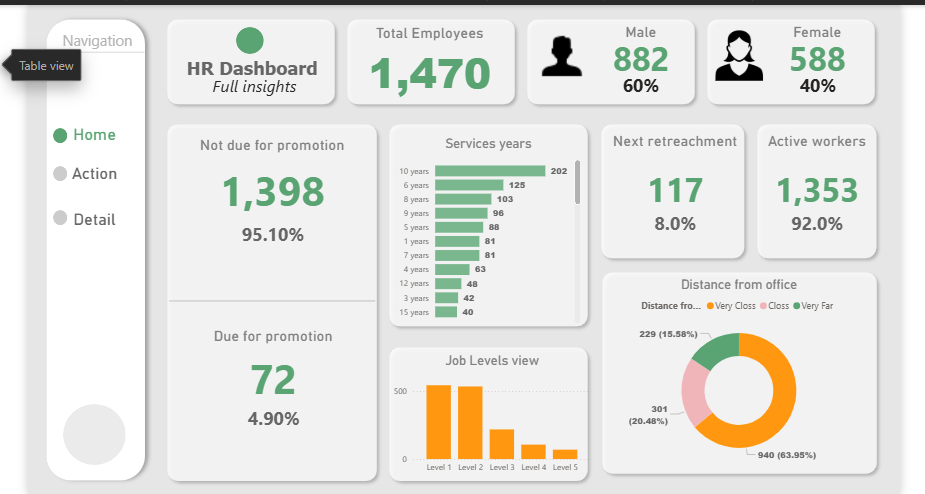

This screenshot's page, from the dashboard's own definition file:
{"tool":"powerbi","page":{"name":"Home","canvas":[1280,720],"ordinal":0},"visuals":[{"type":"shape","box":[16.5,9.6,166.5,699.2],"z":0},{"type":"shape","box":[195.4,12.4,264.3,143.1],"z":1000},{"type":"shape","box":[459.7,12.4,264.3,143.1],"z":2000},{"type":"shape","box":[724,12.4,264.3,143.1],"z":3000},{"type":"shape","box":[988.2,12.4,264.3,143.1],"z":4000},{"type":"shape","box":[195.4,166.5,326.2,542.3],"z":5000},{"type":"shape","box":[521.6,166.2,309.7,315.2],"z":6000},{"type":"shape","box":[521.6,494.1,309.7,214.7],"z":7000},{"type":"shape","box":[834.8,384.2,421.6,314.1],"z":8000},{"type":"shape","box":[833.6,166.7,228.3,215],"z":9000},{"type":"shape","box":[1063.1,166.7,193.3,215],"z":10000},{"type":"textbox","box":[209.7,71.2,238.7,51.4],"z":11000},{"type":"textbox","box":[36.9,33,130.5,51.4],"z":12000},{"type":"textbox","box":[209.7,97.6,251.9,55.4],"z":13000},{"type":"shape","box":[305.9,33,40.9,39.6],"z":14000},{"type":"card","title":"Total Employees","fields":{"Values":["All Measures.Total Emp"]},"box":[468,27.5,246.4,112.9],"z":15000},{"type":"card","title":"Male","fields":{"Values":["All Measures.Male"]},"box":[814.8,26.2,170.7,75.7],"z":16000},{"type":"card","fields":{"Values":["All Measures.Male %"]},"box":[834.1,90.8,132.1,55.1],"z":17000},{"type":"card","title":"Female","fields":{"Values":["All Measures.Female"]},"box":[1068.7,26.2,183.1,75.7],"z":18000},{"type":"card","fields":{"Values":["All Measures.Female %"]},"box":[1083.9,90.8,152.8,53.7],"z":19000},{"type":"image","box":[736.3,26.2,95,90.8],"z":20000},{"type":"actionButton","title":"Home","box":[27.8,176.4,140.1,30.2],"z":21000},{"type":"image","box":[1004.7,33,79.8,84],"z":22000},{"type":"actionButton","title":"Action","box":[27.7,233.4,139.8,56.7],"z":23000},{"type":"card","title":"Active workers","fields":{"Values":["All Measures.On service"]},"box":[1058.3,186,203,142.6],"z":24000},{"type":"actionButton","title":"Detail","box":[27.7,300.7,139.8,58],"z":25000},{"type":"card","fields":{"Values":["All Measures.% Active workers"]},"box":[1082.4,296,153.4,53.2],"z":26000},{"type":"card","title":"Next retreachment","fields":{"Values":["All Measures.Due for retirment"]},"box":[843.2,186,215,142.6],"z":27000},{"type":"card","fields":{"Values":["All Measures.%Due for retirment"]},"box":[865,296,171.5,53.2],"z":28000},{"type":"columnChart","title":"Job Levels view","fields":{"Category":["HR Analytics Data.Job Level"],"Y":["All Measures.Total Emp"]},"box":[531.3,512,300,185.8],"z":29000},{"type":"barChart","title":"Services years","fields":{"Category":["HR Analytics Data.Total working Years"],"Y":["All Measures.Total Emp"]},"box":[536.4,192.1,280.3,280.3],"z":30000},{"type":"donutChart","title":"Distance from office","fields":{"Category":["HR Analytics Data.Distance from office"],"Y":["All Measures.Total Emp"]},"box":[840.8,399.9,408.3,282.7],"z":31000},{"type":"card","title":"Not due for promotion","fields":{"Values":["All Measures.Not Due"]},"box":[207.8,192.1,303.2,130.5],"z":32000},{"type":"card","title":"Due for promotion","fields":{"Values":["All Measures.Due for promotion"]},"box":[209,473.8,303.2,119.6],"z":33000},{"type":"shape","box":[206.6,427.7,303.2,14.5],"z":34000},{"type":"card","fields":{"Values":["All Measures.% Not due for promotion"]},"box":[283.5,309.7,152.8,53.7],"z":35000},{"type":"card","fields":{"Values":["All Measures.% Due for promotion"]},"box":[285.1,582.5,152.2,53.2],"z":36000},{"type":"shape","box":[36.9,180.7,21.1,22.4],"z":37000},{"type":"shape","box":[36.9,236,21.1,22.4],"z":38000},{"type":"shape","box":[36.9,300.7,21.1,22.4],"z":39000},{"type":"shape","box":[51.4,586.8,92.3,89.7],"z":40000},{"type":"shape","box":[30.2,61.6,140.1,15.7],"z":41000}]}

Visuals, with their boxes on the page's 1280x720 design canvas (x1, y1, x2, y2). These are canvas units, not pixel positions in the 925x494 screenshot, which may show the page scaled, cropped or inside an application window:
shape: 16:10:183:709
shape: 195:12:460:156
shape: 460:12:724:156
shape: 724:12:988:156
shape: 988:12:1252:156
shape: 195:166:522:709
shape: 522:166:831:481
shape: 522:494:831:709
shape: 835:384:1256:698
shape: 834:167:1062:382
shape: 1063:167:1256:382
textbox: 210:71:448:123
textbox: 37:33:167:84
textbox: 210:98:462:153
shape: 306:33:347:73
"Total Employees" card: 468:28:714:140
"Male" card: 815:26:986:102
card - All Measures.Male %: 834:91:966:146
"Female" card: 1069:26:1252:102
card - All Measures.Female %: 1084:91:1237:144
image: 736:26:831:117
"Home" actionButton: 28:176:168:207
image: 1005:33:1084:117
"Action" actionButton: 28:233:168:290
"Active workers" card: 1058:186:1261:329
"Detail" actionButton: 28:301:168:359
card - All Measures.% Active workers: 1082:296:1236:349
"Next retreachment" card: 843:186:1058:329
card - All Measures.%Due for retirment: 865:296:1036:349
"Job Levels view" columnChart: 531:512:831:698
"Services years" barChart: 536:192:817:472
"Distance from office" donutChart: 841:400:1249:683
"Not due for promotion" card: 208:192:511:323
"Due for promotion" card: 209:474:512:593
shape: 207:428:510:442
card - All Measures.% Not due for promotion: 284:310:436:363
card - All Measures.% Due for promotion: 285:582:437:636
shape: 37:181:58:203
shape: 37:236:58:258
shape: 37:301:58:323
shape: 51:587:144:676
shape: 30:62:170:77
